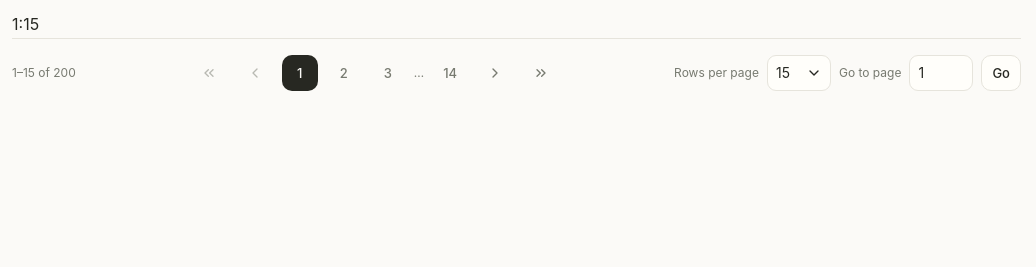
Test: supports direct page navigation and rejects out-of-range jumps
Check: the button named "Previous page" is disabled, box [236,55,274,91]
Click the button named "Page 2".
click(344, 73)  # box [326,55,362,91]
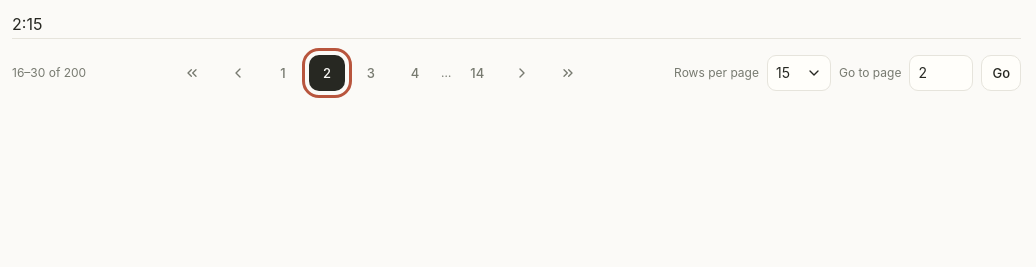
Click the button named "Page 3".
click(371, 73)  # box [353,55,389,91]
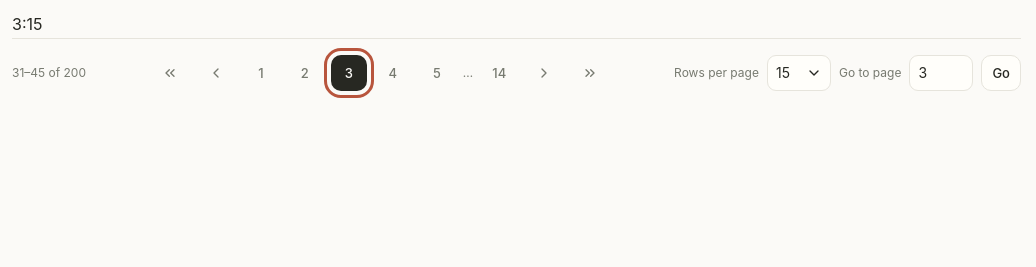
Check: the button named "Page 3" is marked as current, box [331,55,367,91]
Replace the text in the number field labelled "Go to page" with "99" at coordinates (941, 73), box [909,55,973,91]
Then press Enter
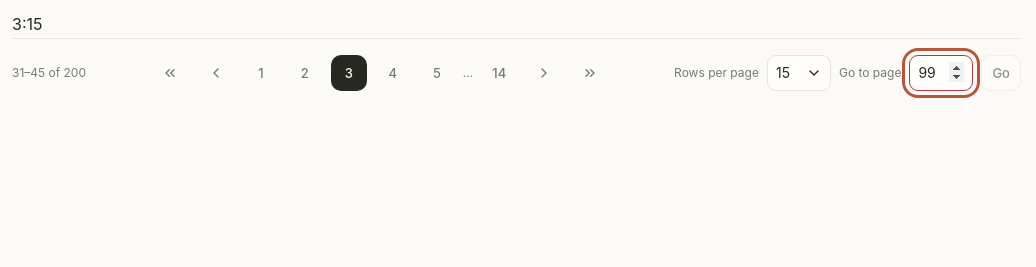
Check: the text "3:15" is shown, box [12,14,42,34]
Replace the text in the number field labelled "Go to page" with "14" at coordinates (941, 73), box [909,55,973,91]
Then press Enter
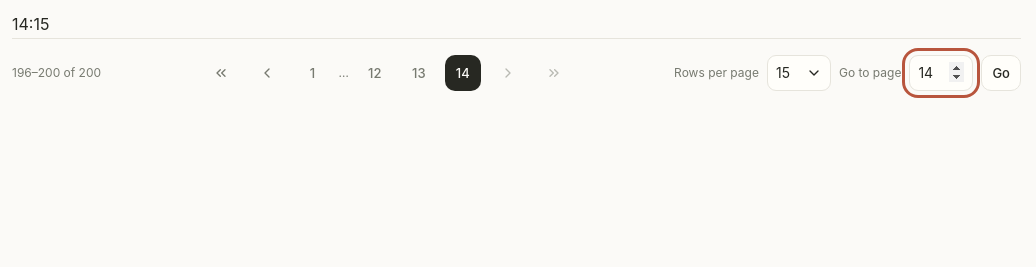
Check: the button named "Next page" is disabled, box [489,55,527,91]
Click the dropdown named "Rows per page".
click(799, 73)  # box [767,55,831,91]
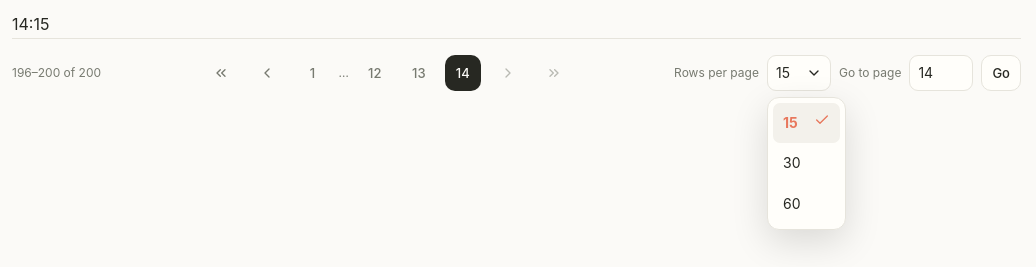
Click the option "30".
click(792, 163)  # box [783,154,800,171]
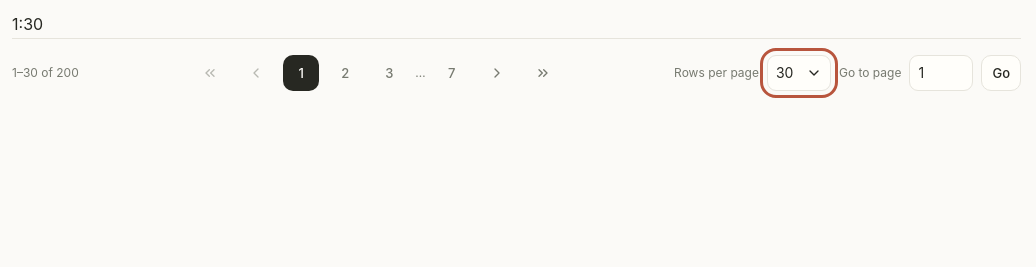
Check: the text "1:30" is shown, box [12,14,43,34]
